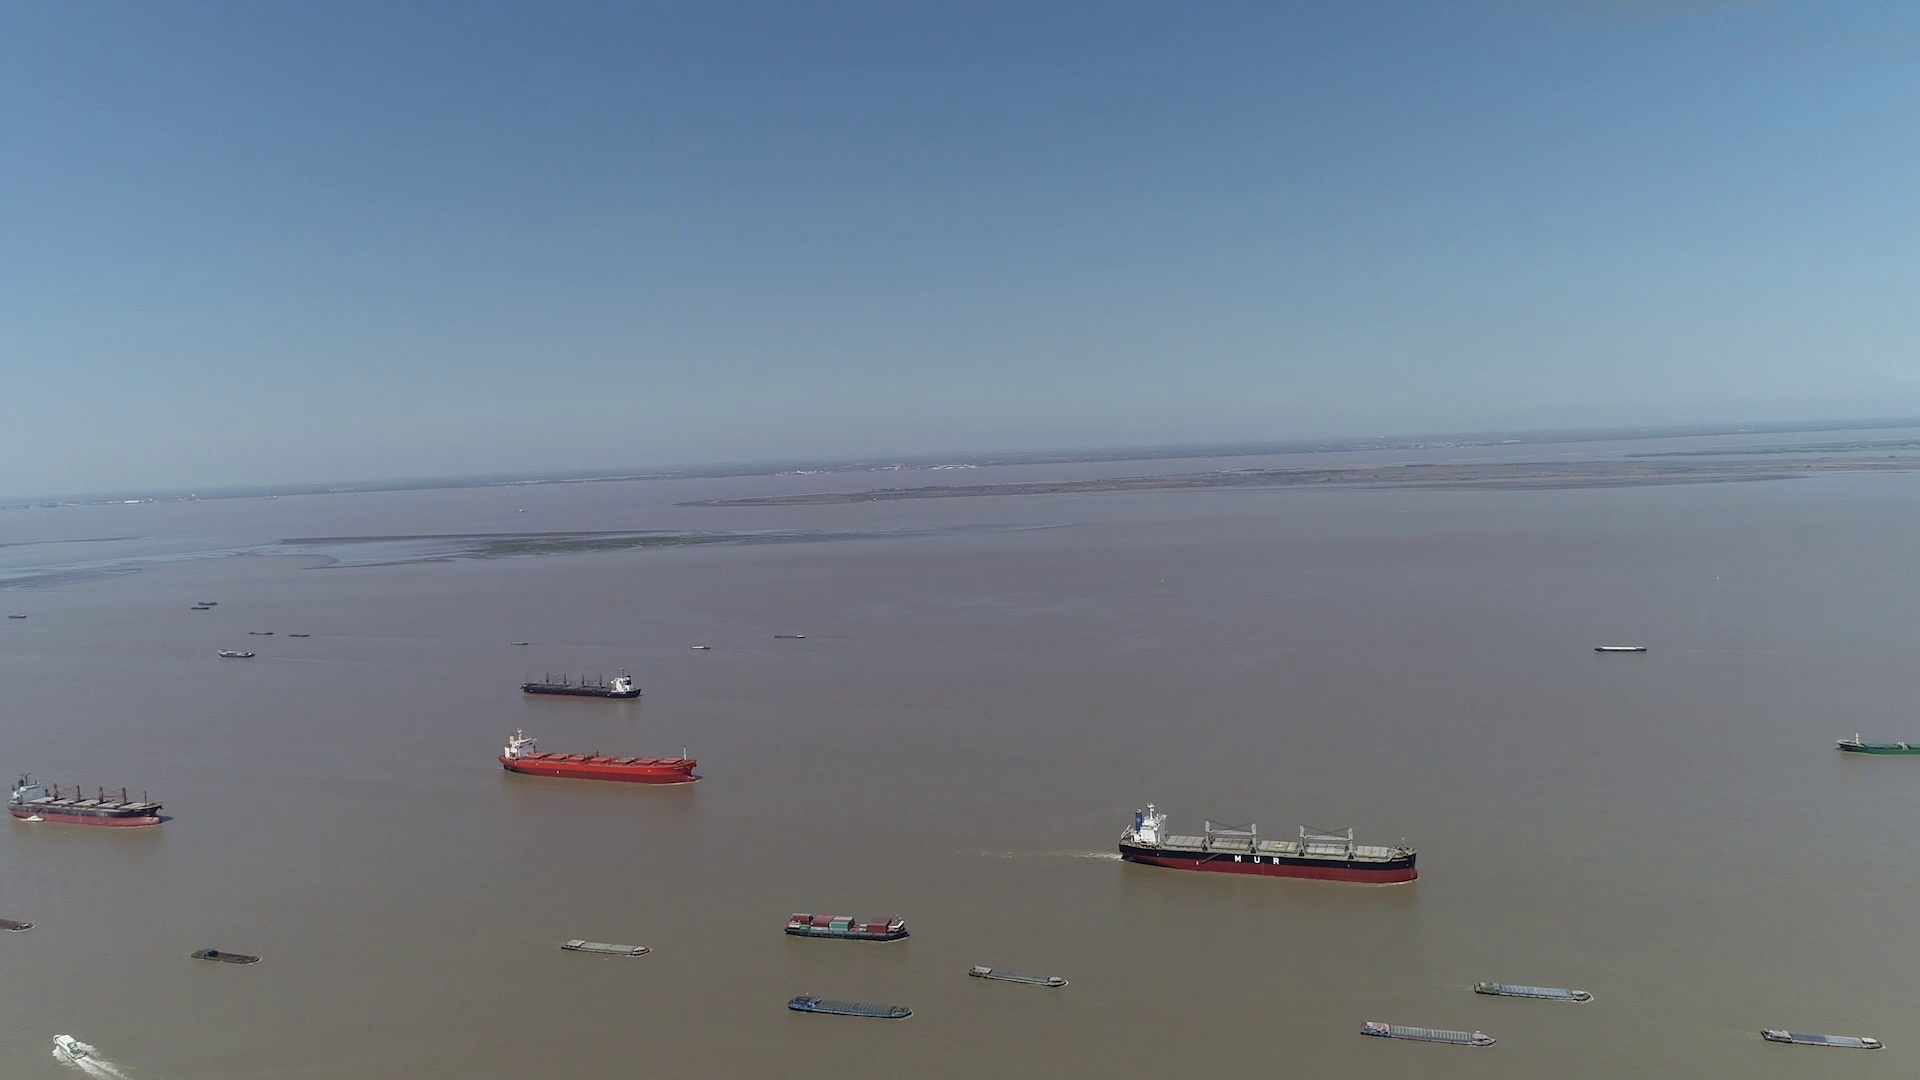ship: (1117, 802, 1419, 886), (496, 728, 702, 785), (12, 774, 162, 827), (520, 667, 641, 700), (783, 910, 909, 942), (1358, 1019, 1494, 1047), (1759, 1025, 1884, 1050), (789, 993, 913, 1017), (1472, 980, 1592, 1004), (969, 964, 1068, 988), (1836, 733, 1920, 756), (563, 939, 653, 957), (194, 947, 261, 964), (51, 1035, 94, 1059), (0, 916, 33, 932), (1596, 644, 1648, 653), (218, 650, 257, 659)
